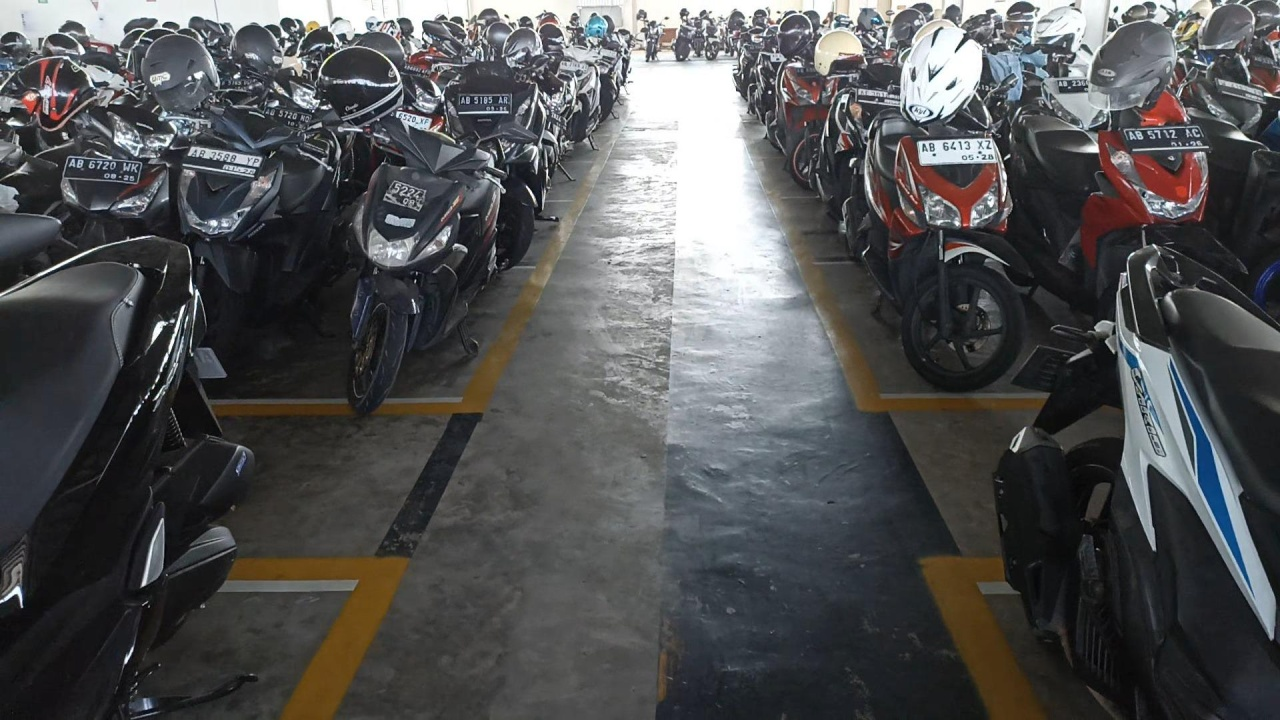plate: (181, 145, 265, 180), (1122, 125, 1213, 154), (63, 156, 142, 184), (917, 139, 997, 165), (384, 181, 427, 211), (458, 94, 511, 114)
